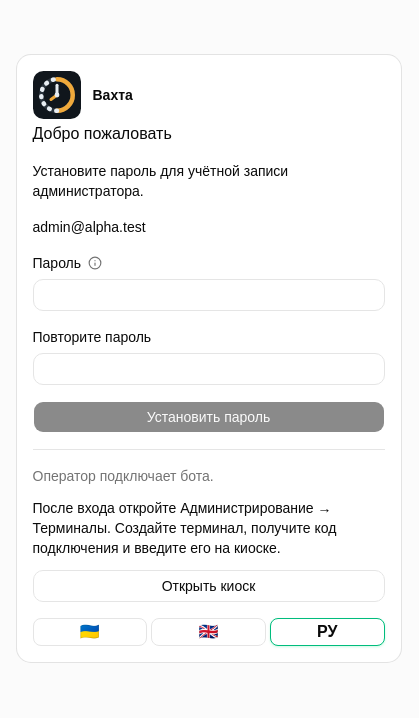
Scenario: administrator welcome › keeps password input after a failed save and permits an explicit retry
Expected: the text "admin@alpha.test" is shown, [32,218,146,234]
Type "test-new-password-123" into the password field labelled "Пароль" at (208,294), box [32,278,384,310]
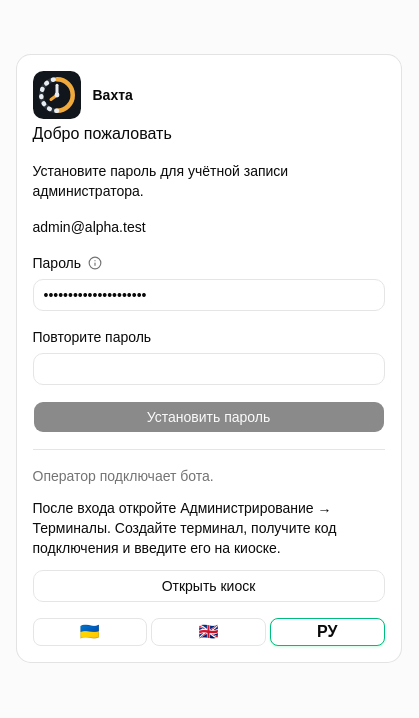
Type "test-new-password-123" into the password field labelled "Повторите пароль" at (208,368), box [32,352,384,384]
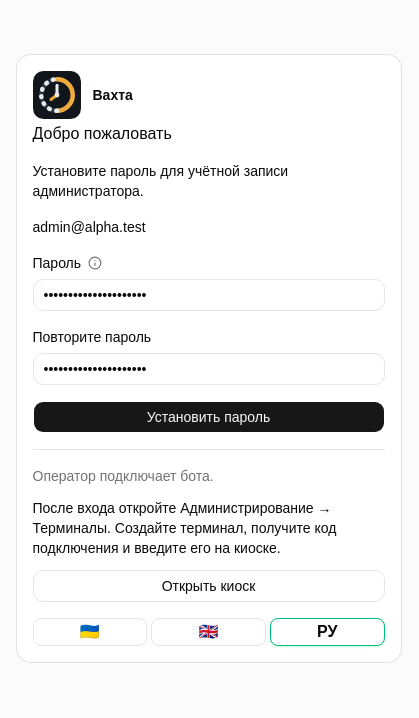
Click the button "Установить пароль" at (208,416), box [32,400,384,432]
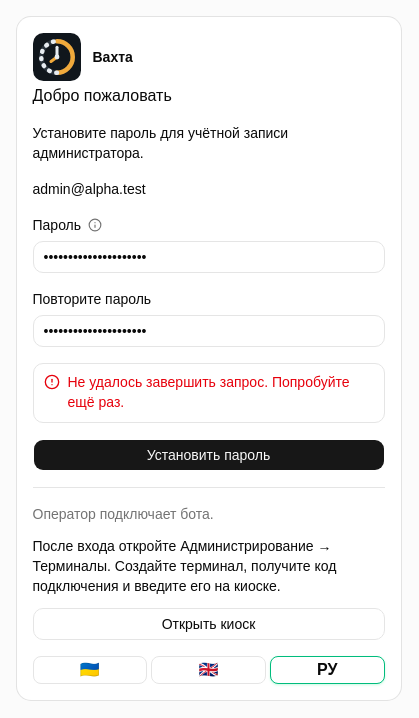
Expected: the number of password fields showing "test-new-password-123" is 2, [32,240,384,272]; [32,314,384,346]
Now the button "Установить пароль" is enabled, box [32,438,384,470]
Now the text "Не удалось завершить запрос. Попробуйте ещё раз." is shown, box [68,372,374,412]
